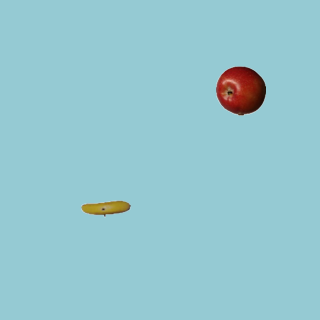Apple Braeburn: (215, 65, 265, 115)
Banana: (80, 183, 130, 233)
